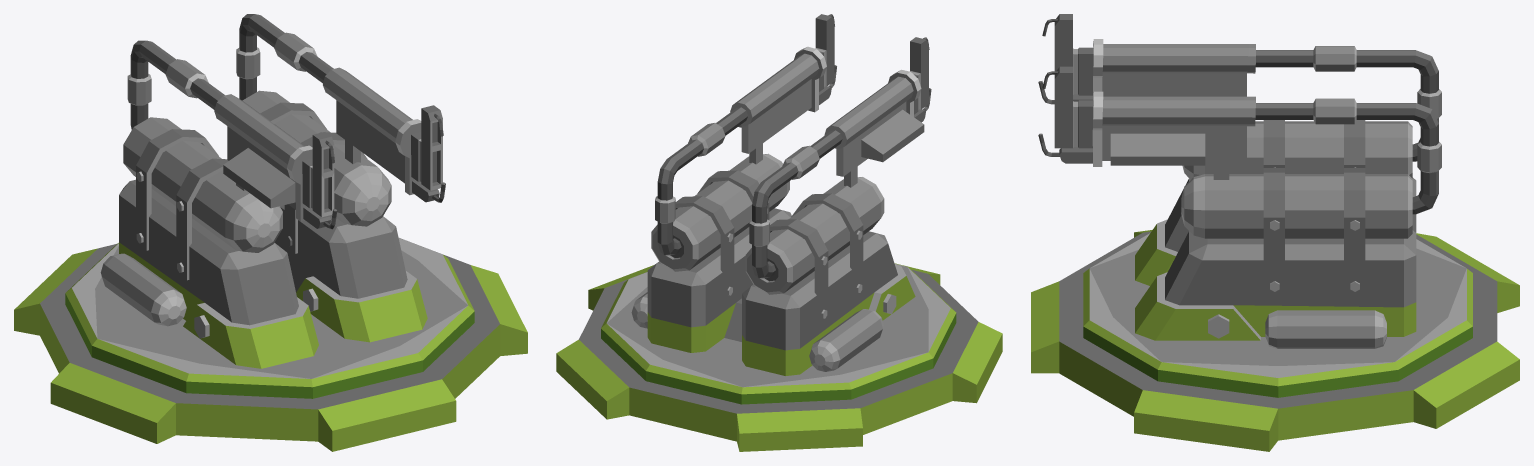
File: tower_napalm_green_3.fbx
3 views of the same model, side by side, from view 1: azimuth 30°, elevation 25°; view 2: azimuth 150°, elevation 25°; view 3: azimuth 270°, elevation 25° (orthographic). The views are drawn at different scales.
Parts seen in each view (by area): view 1: top_napalm_green_3, tower_napalm_green_3; view 2: top_napalm_green_3, tower_napalm_green_3; view 3: top_napalm_green_3, tower_napalm_green_3.
Part boxes in pixels (bbox=[...]): top_napalm_green_3: bbox=[100, 14, 445, 368]; tower_napalm_green_3: bbox=[14, 238, 527, 451]; top_napalm_green_3: bbox=[631, 14, 931, 375]; tower_napalm_green_3: bbox=[556, 263, 1002, 451]; top_napalm_green_3: bbox=[1038, 14, 1441, 348]; tower_napalm_green_3: bbox=[1031, 230, 1519, 451].
Bounding box in the file's own units: 190 × 122 × 181.
